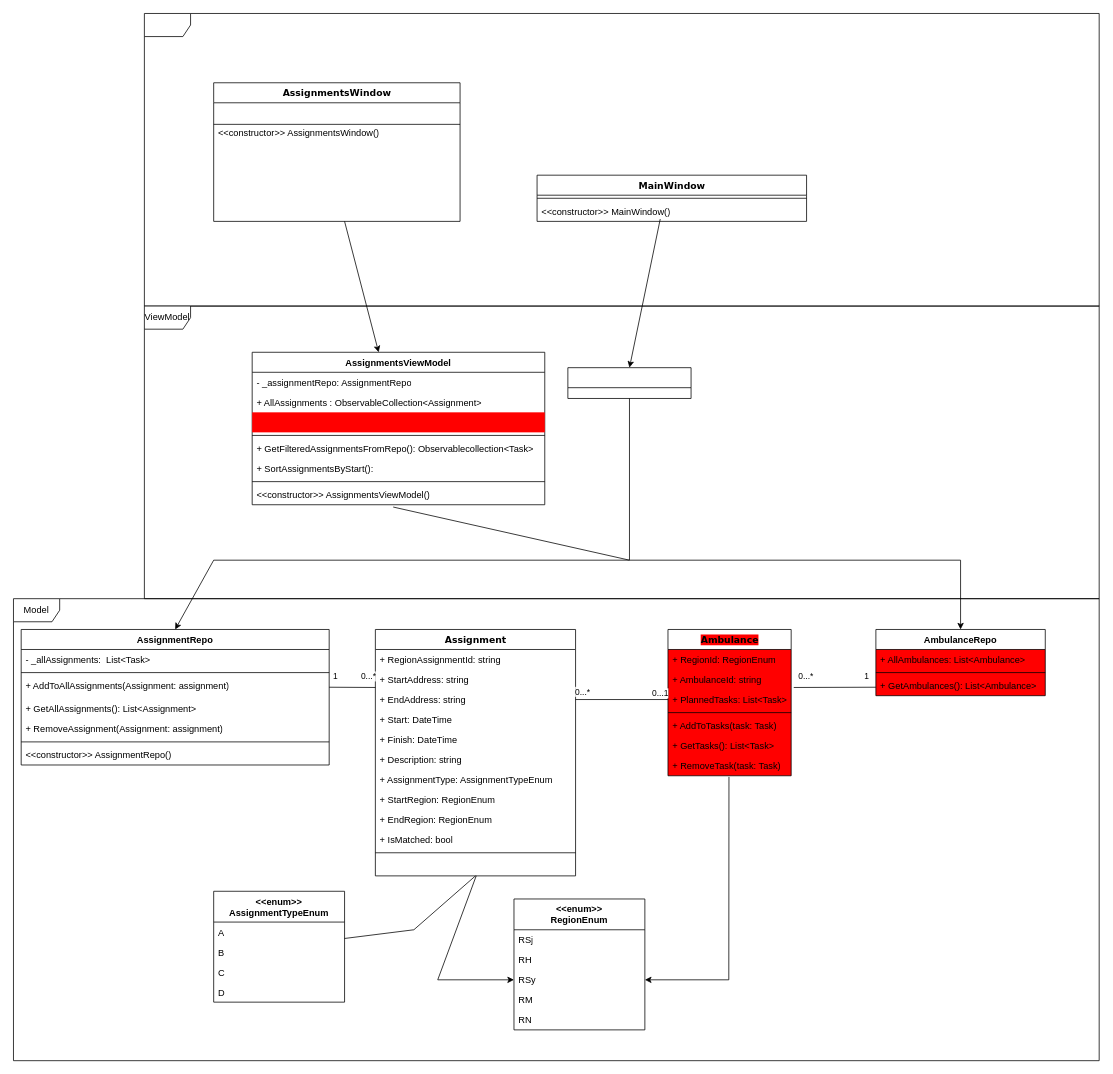
This 1113x1074 diagram has some shape labels left out. Each missing label, with the centre of its shape:
+ AllAmbulances: ObservableCollection<Ambulance>: [398,422]
MainViewModel: [629,382]
View: [621,159]
